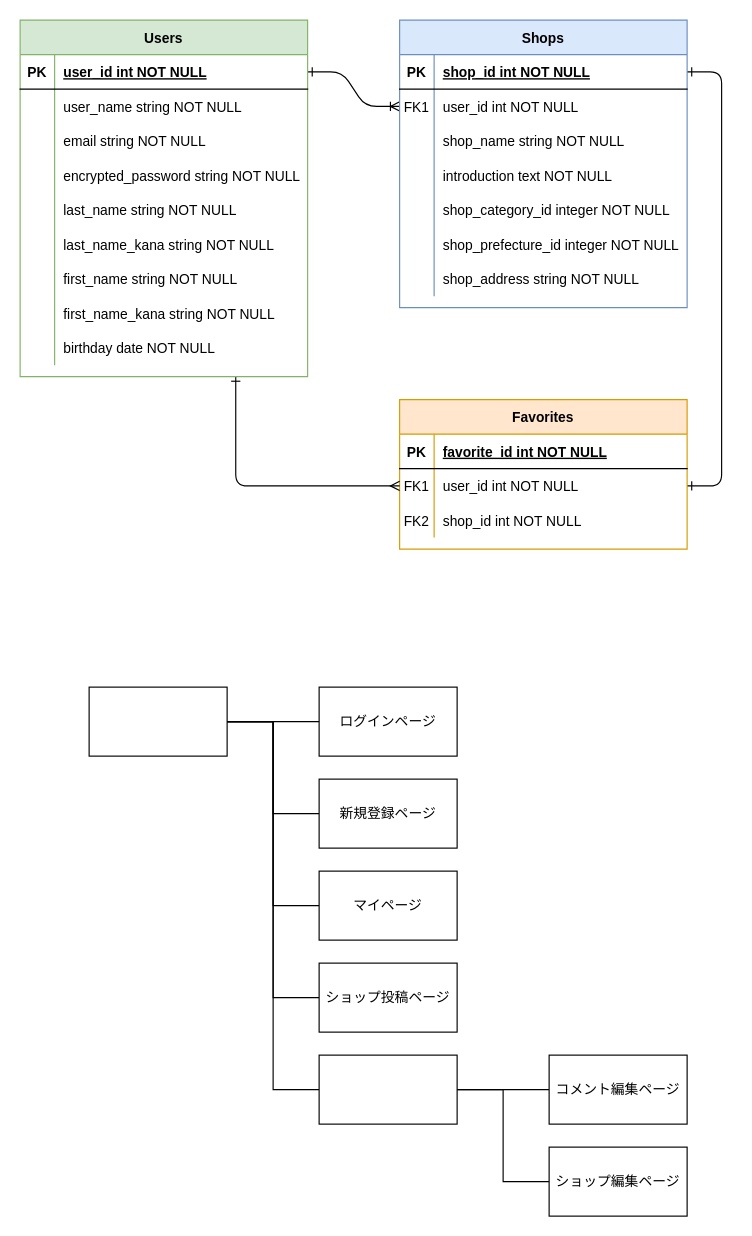
Image size: 752x1236. Some labels were removed from this diagram. Each missing label, with the centre of its shape:
"ショップ詳細ページ" belongs at point (387, 1089).
"トップページ" belongs at point (157, 721).
